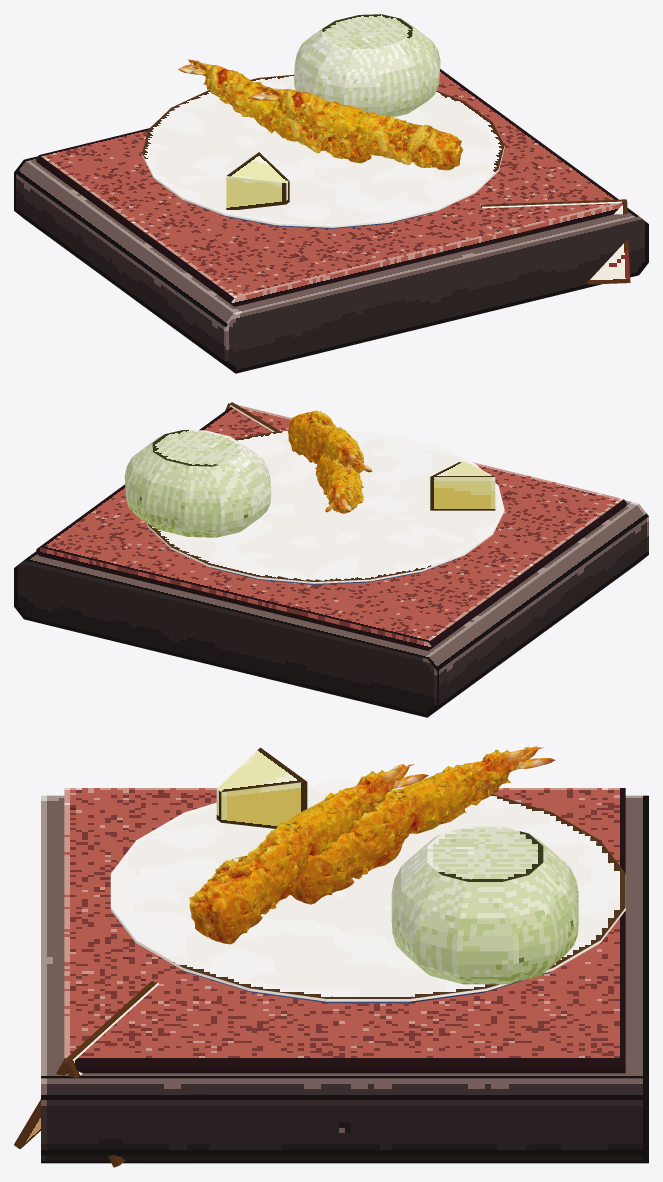
File: ebifry.glb
3 views of the same model, one above another, from view 1: azimuth 30°, elevation 25°; view 2: azimuth 150°, elevation 25°; view 3: azimuth 270°, elevation 25° (orthographic). The views are drawn at different scales.
Visible parts, largest first — view 1: base, felt, plate, cabbage, model_shrimp2, model_shrimp1, lemon, card1; view 2: base, felt, plate, cabbage, model_shrimp2, lemon, model_shrimp1; view 3: felt, base, plate, cabbage, model_shrimp2, model_shrimp1, lemon, card1, card0.
Part boxes in pixels (x1,y1,x2,y2): base: (14,156,648,373); felt: (36,69,623,306); plate: (142,74,504,228); cabbage: (294,14,440,117); model_shrimp2: (250,86,463,170); model_shrimp1: (178,59,371,163); lemon: (226,152,289,209); card1: (481,201,630,284); base: (14,500,648,717); felt: (36,404,626,650); plate: (147,430,504,584); cabbage: (124,430,271,537); model_shrimp2: (288,410,372,474); lemon: (430,462,495,510); model_shrimp1: (315,454,363,513); felt: (64,788,625,1073); base: (41,795,648,1163); plate: (110,781,625,1003); cabbage: (391,826,578,984); model_shrimp2: (189,764,428,944); model_shrimp1: (290,746,555,904); lemon: (216,747,307,828); card1: (14,981,154,1148); card0: (64,982,158,1167).
Bounding box in the file's own units: 30.12 × 10.7 × 27.15.
2 materials, 2 textured.
